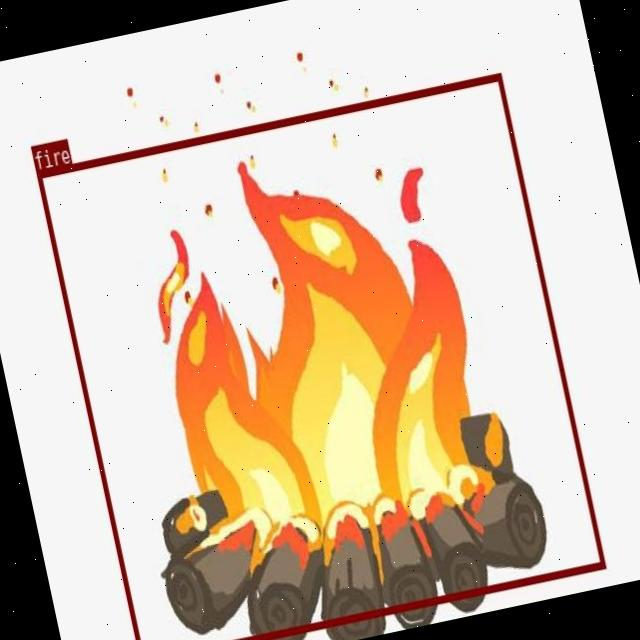fire: (34, 71, 604, 640)
